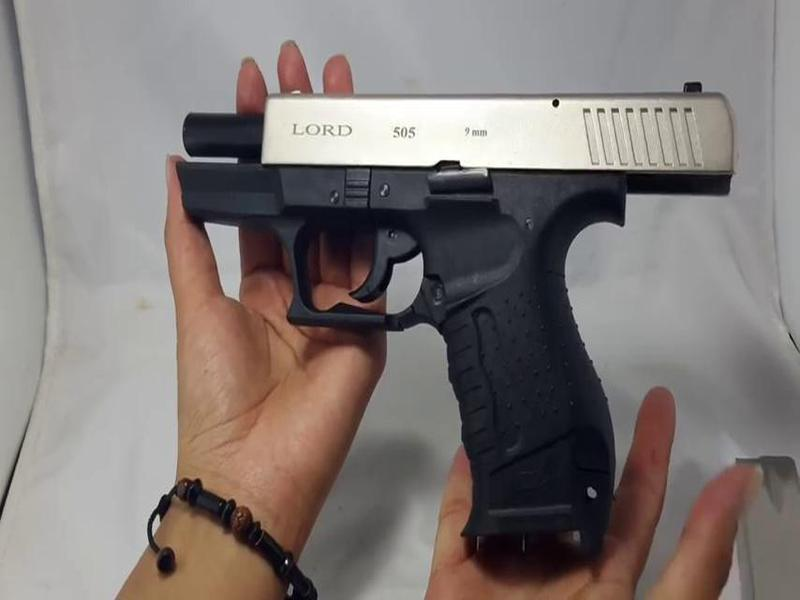Pistola: (131, 77, 766, 524)
